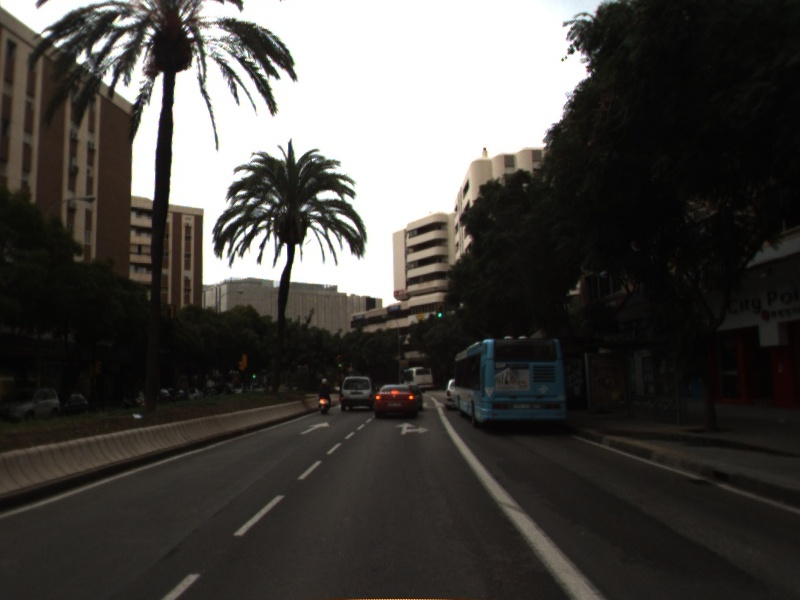STRAIGHT: (298, 420, 333, 437)
STRAIGHT_RIGHT: (393, 419, 431, 436)
